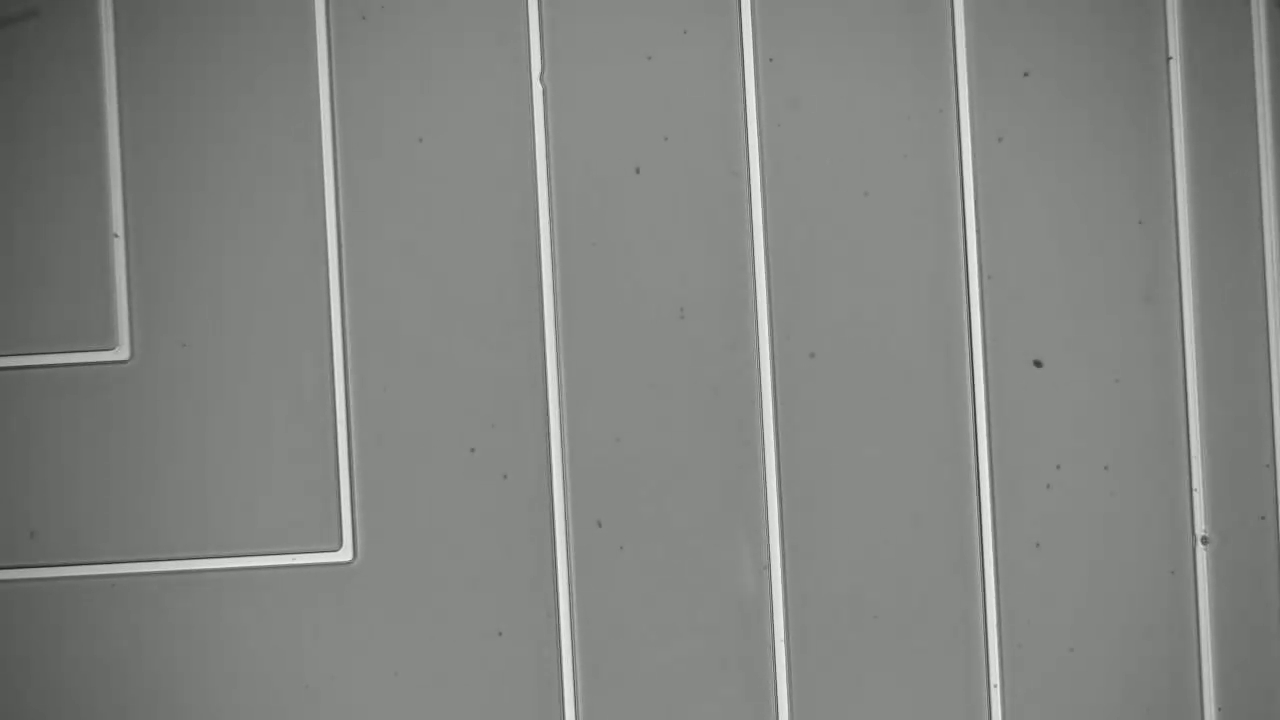stains_enbedded: (1187, 523, 1216, 555)
